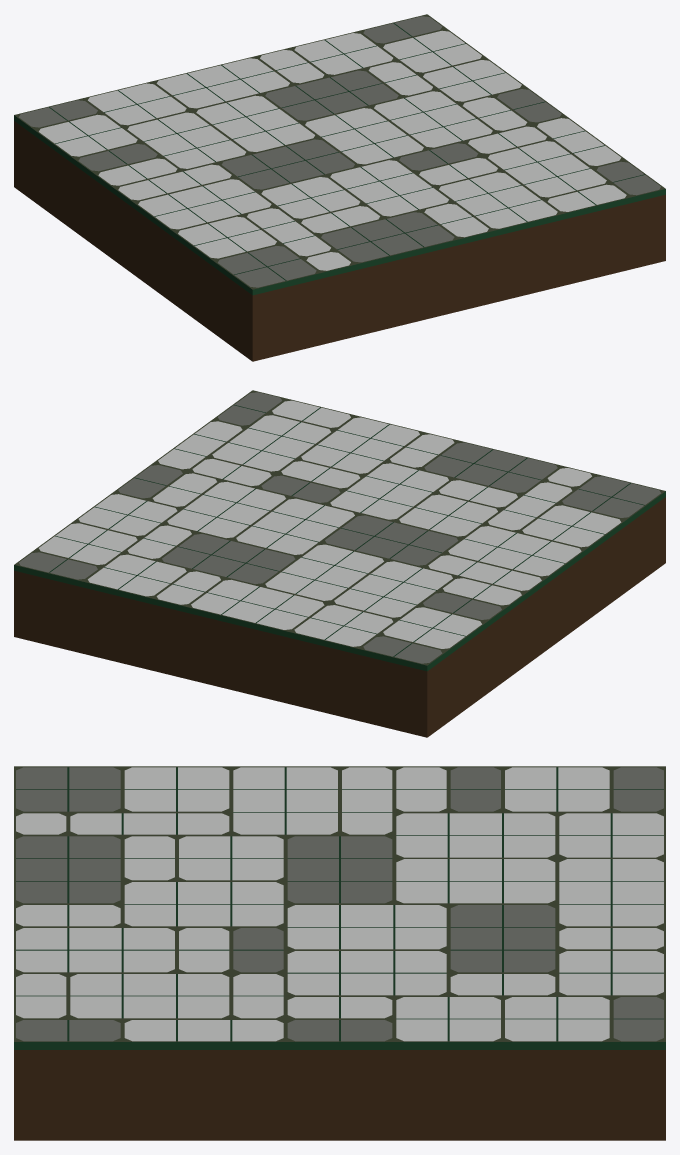
File: battle-map-tile-69e0b1.glb
3 renders of one model, top to bottom at view 1: azimuth 30°, elevation 25°; view 2: azimuth 150°, elevation 25°; view 3: azimuth 270°, elevation 25°, orthographic. The views are drawn at different scales.
Parts seen in each view (by area): view 1: battle-map-sheet; view 2: battle-map-sheet; view 3: battle-map-sheet.
Part boxes in pixels (x1,y1,x2,y2): battle-map-sheet: [14, 14, 665, 361]; battle-map-sheet: [14, 390, 665, 737]; battle-map-sheet: [14, 766, 665, 1140].
Size of the model in its own units: 0.3 by 0.05 by 0.3.
